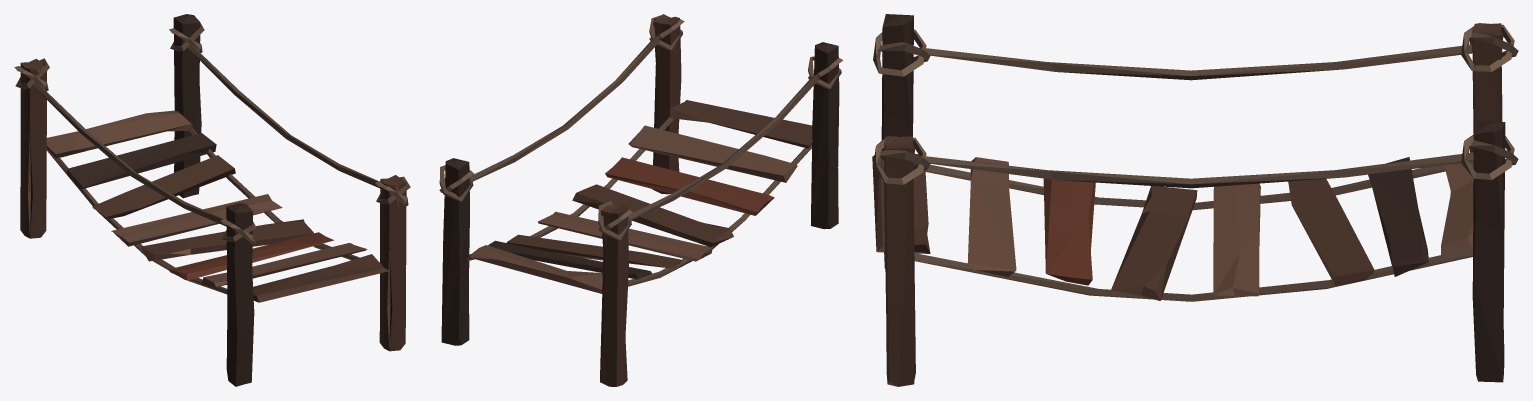
File: DocksBridge_02.glb
3 views of the same model, side by side, from view 1: azimuth 30°, elevation 25°; view 2: azimuth 150°, elevation 25°; view 3: azimuth 270°, elevation 25° (orthographic). The views are drawn at different scales.
Parts seen in each view (by area): view 1: DocksBridge_02; view 2: DocksBridge_02; view 3: DocksBridge_02.
Part boxes in pixels (x1=…): DocksBridge_02: x1=14, y1=14, x2=410, y2=386; DocksBridge_02: x1=439, y1=14, x2=843, y2=386; DocksBridge_02: x1=872, y1=14, x2=1518, y2=386.
Size of what is drawn, in the model's own units: 1.96 by 1.83 by 4.14.
Materials: 1 (1 with a texture image).
